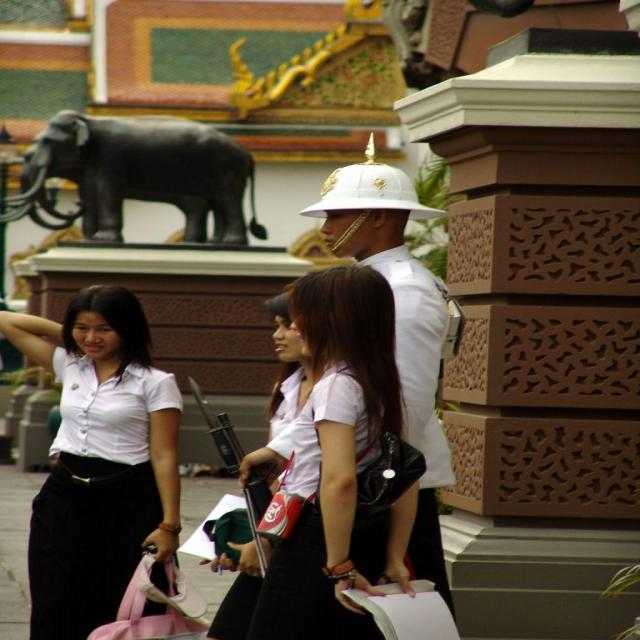elephant: (4, 105, 271, 234)
